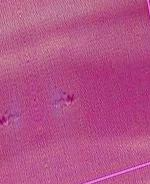knot: (59, 88, 78, 111), (1, 110, 13, 130)
